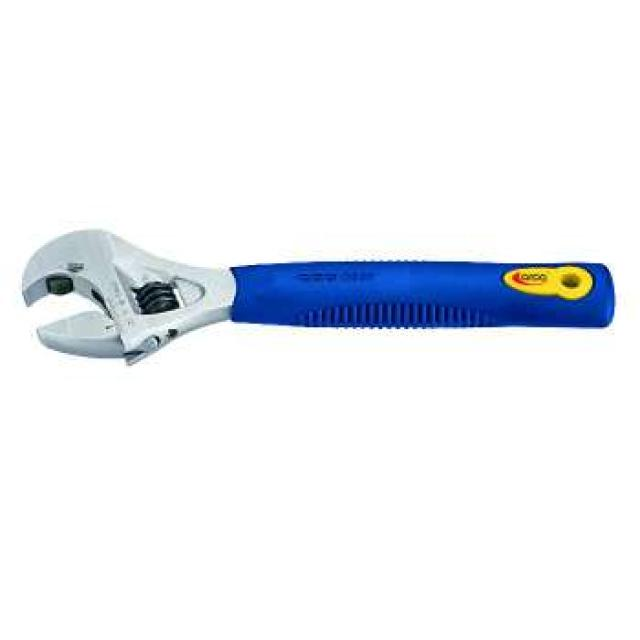wrench: (7, 182, 634, 419)
